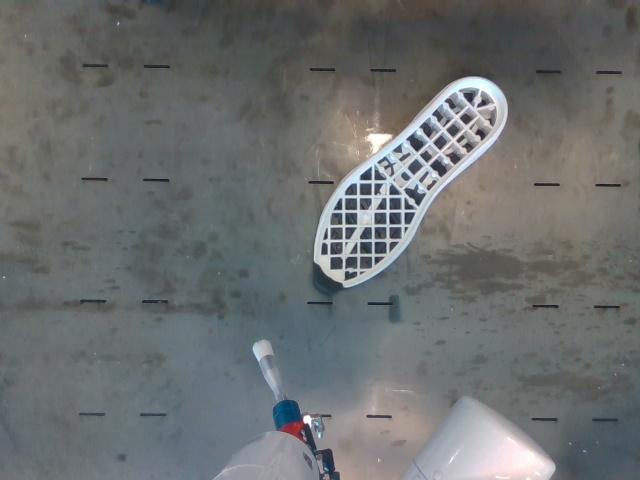shoes: (313, 79, 506, 293)
